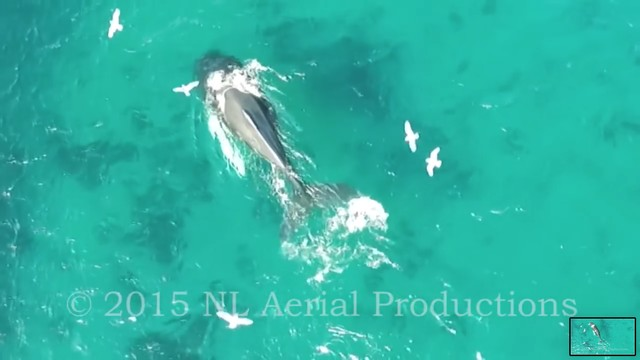whale: (188, 44, 368, 251)
